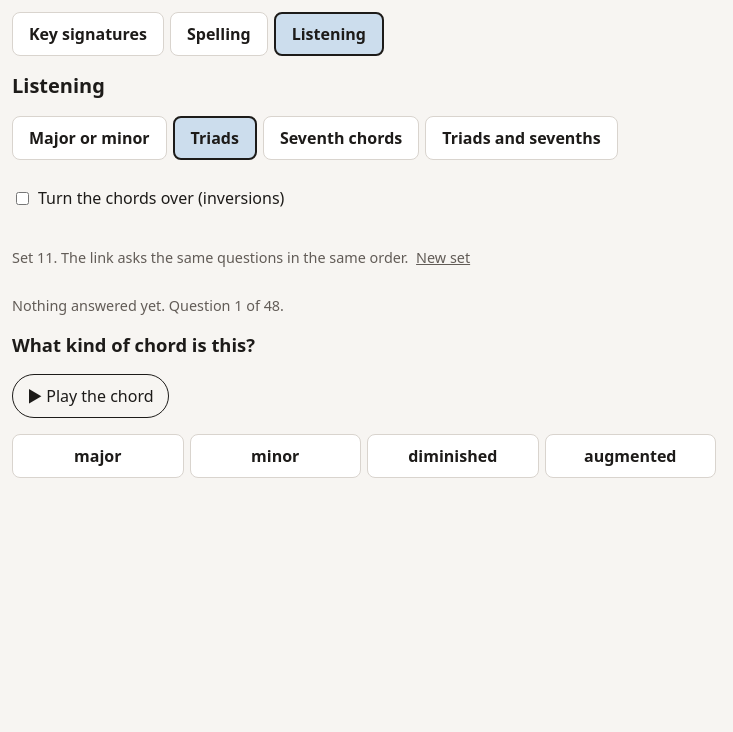
Quiz: the listening drill › scores a wrong answer and locks the choice
Click the button "major".
click(98, 456)  # box [12,434,184,478]
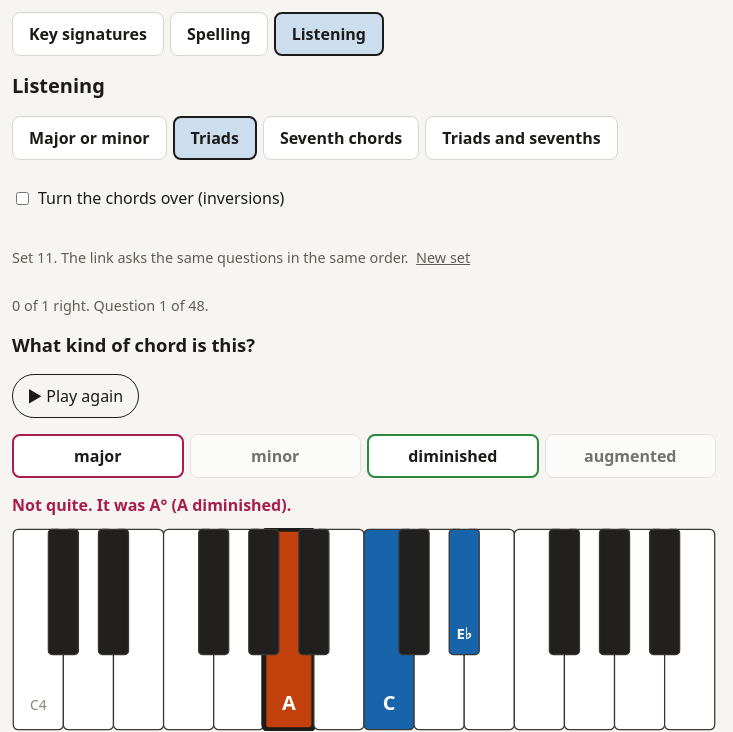
Expected: the button "diminished" is disabled, [367,434,538,478]
Now the message shows "Not quite.", box [12,494,92,516]
Now the text "0 of 1 right. Question 1 of 48." is shown, box [12,296,209,315]
